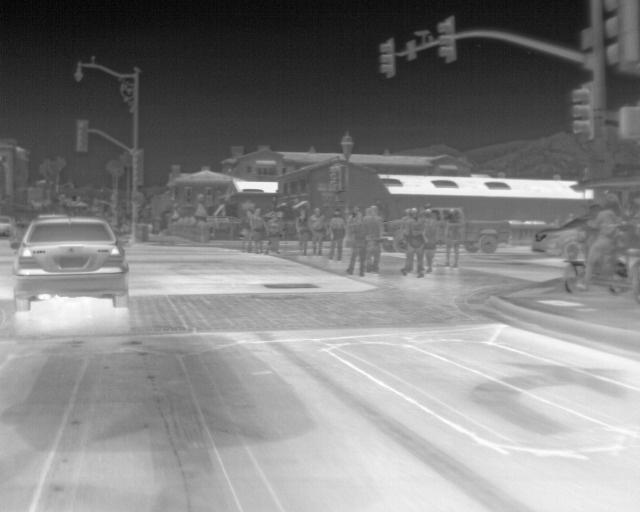bicycle: (13, 217, 129, 312), (532, 214, 585, 257), (460, 219, 510, 252), (0, 213, 18, 239)
empty: (578, 194, 621, 288), (399, 206, 430, 275), (342, 208, 365, 276), (443, 208, 463, 270), (420, 207, 439, 272), (365, 204, 383, 272), (324, 210, 345, 258), (245, 208, 265, 253), (307, 208, 326, 255), (268, 209, 286, 256), (293, 210, 309, 256)
